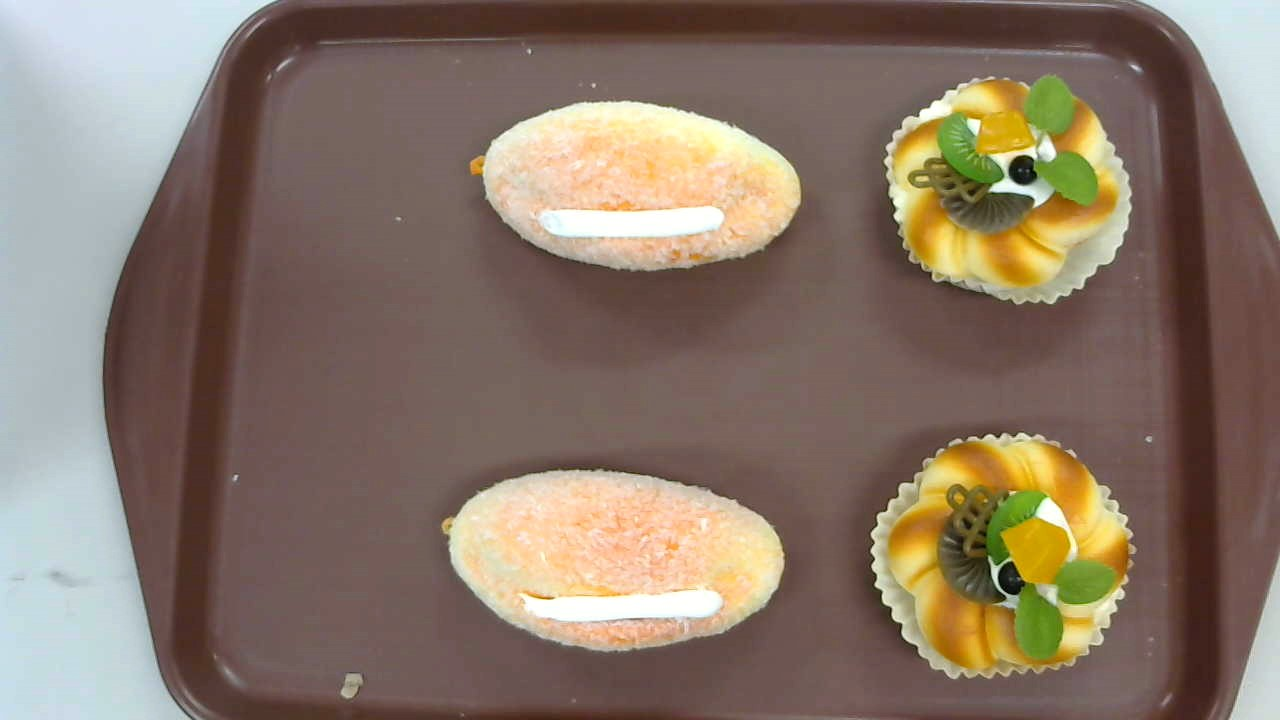coconut: (440, 468, 785, 653), (470, 97, 803, 272)
fruit tart: (871, 429, 1135, 681), (882, 72, 1132, 303)
